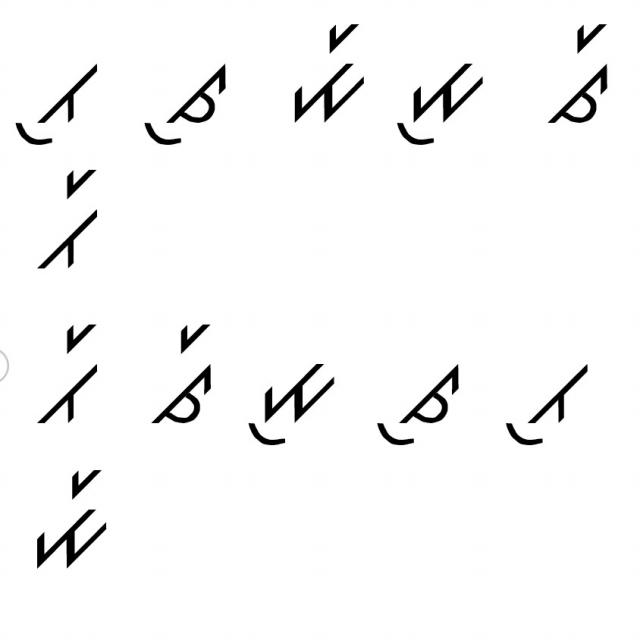bar: (33, 314, 116, 429), (30, 167, 116, 276)
baw: (493, 340, 597, 450), (12, 48, 106, 152)
car: (151, 308, 236, 431), (541, 22, 618, 136)
caw: (364, 350, 465, 454), (135, 58, 230, 152)
mar: (27, 464, 122, 569), (287, 21, 370, 128)
maw: (246, 334, 342, 451), (398, 51, 494, 151)
